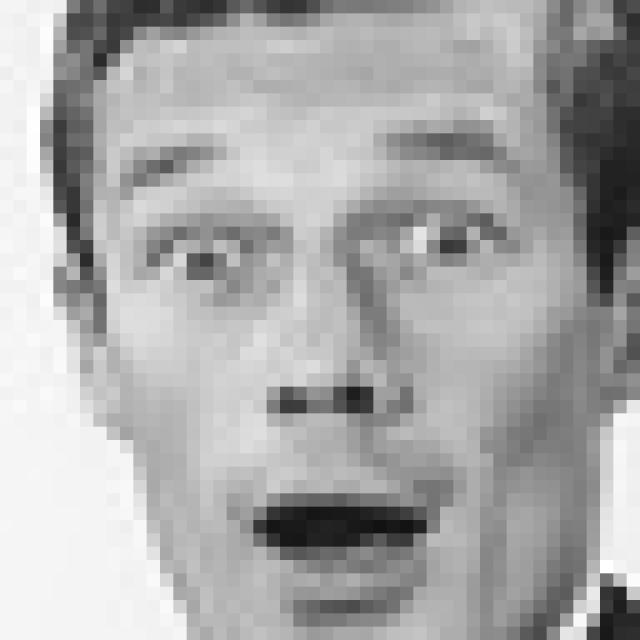surprise: (113, 120, 528, 610)
